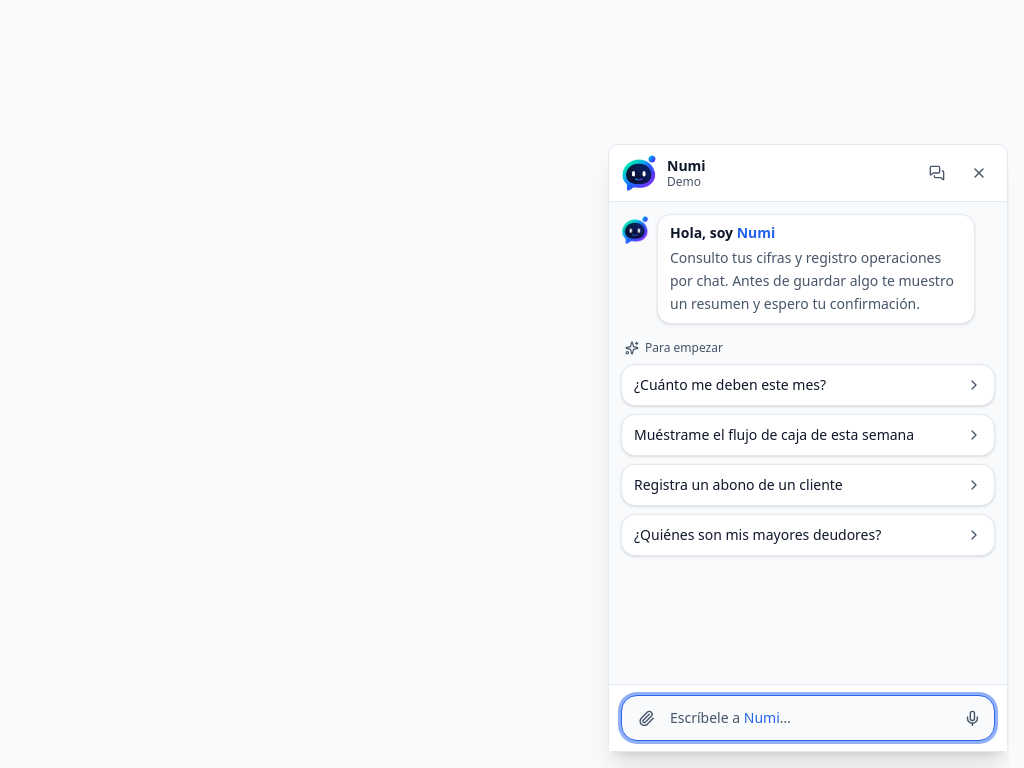
Test case: lo enviado sigue ahí al cerrar y volver a abrir el chat
In the text box named "Mensaje para Numi": (809, 718) [666,702,952,734], type "cuánto me deben"
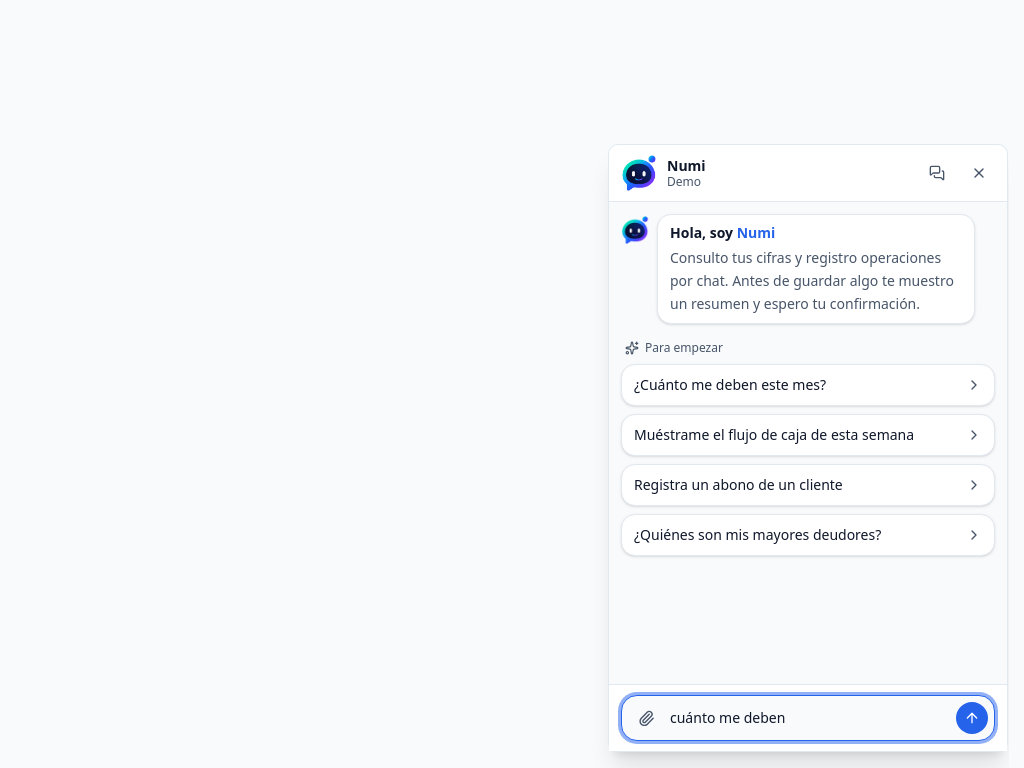
Press Enter
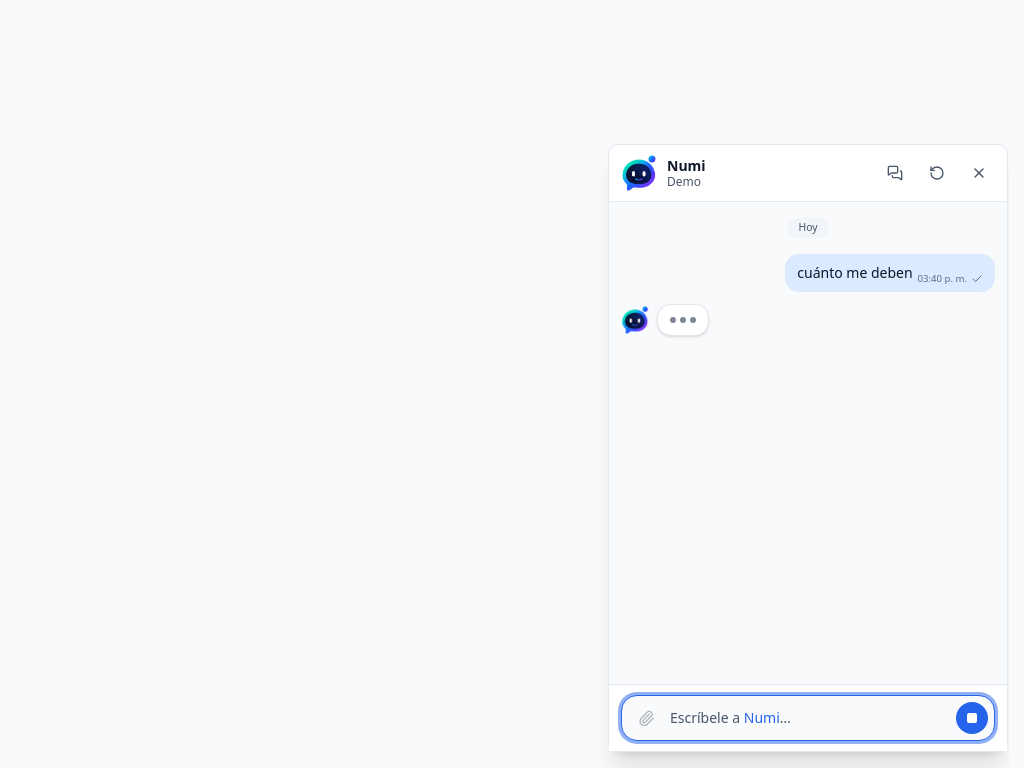
Expected: the text "cuánto me deben" is shown, [797,263,913,282]
Note: Se cierra el chat con la respuesta todavía en camino.
Click the button named "cerrar": (979, 173) [963,157,995,189]
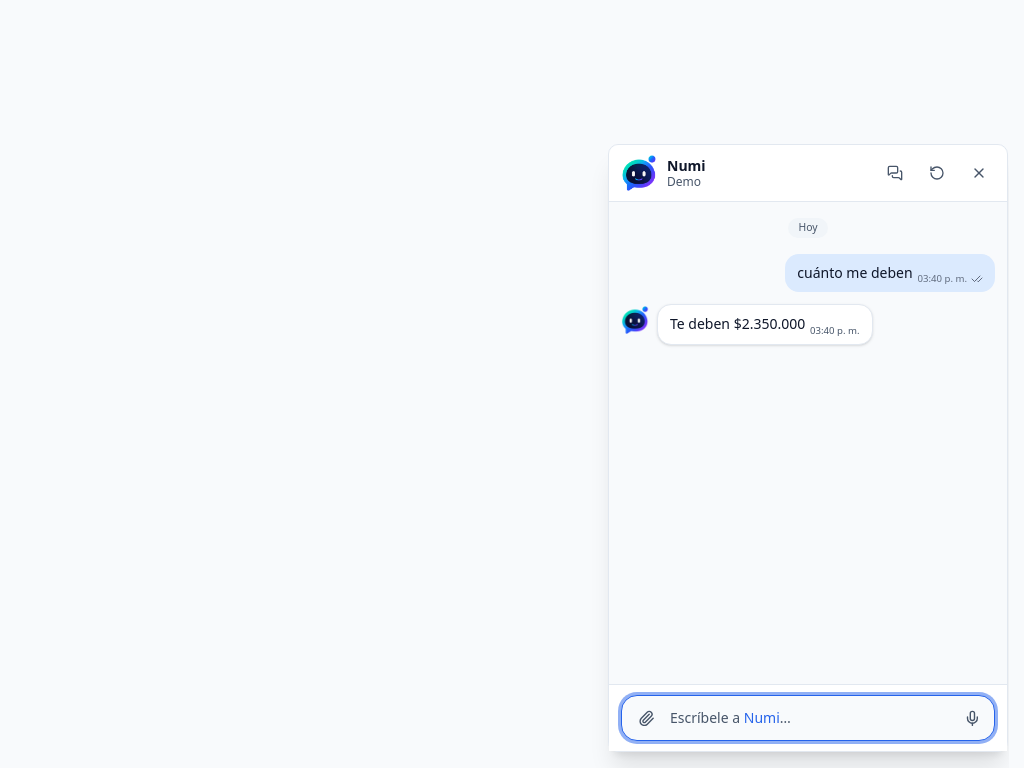
Expected: the text "cuánto me deben" is shown, [797,263,913,282]
Expected: the text "Te deben $2.350.000" is shown, [670,314,805,333]
